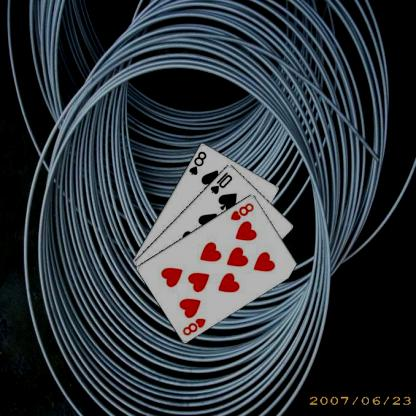10S: (207, 169, 234, 195)
8H: (228, 200, 255, 222), (180, 316, 207, 336)
8S: (186, 149, 207, 176)
